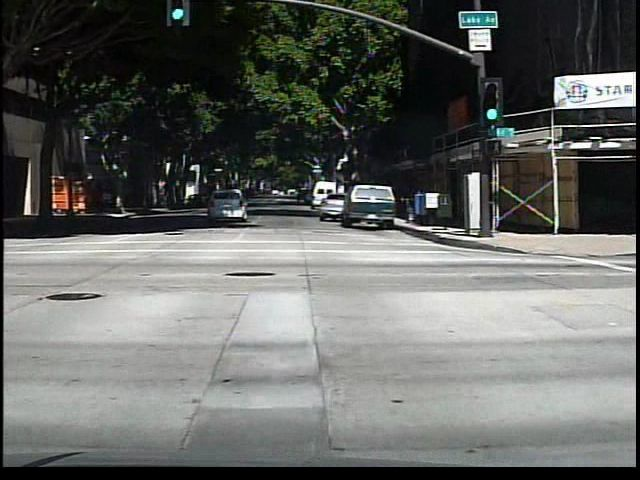person: (96, 184, 113, 218)
